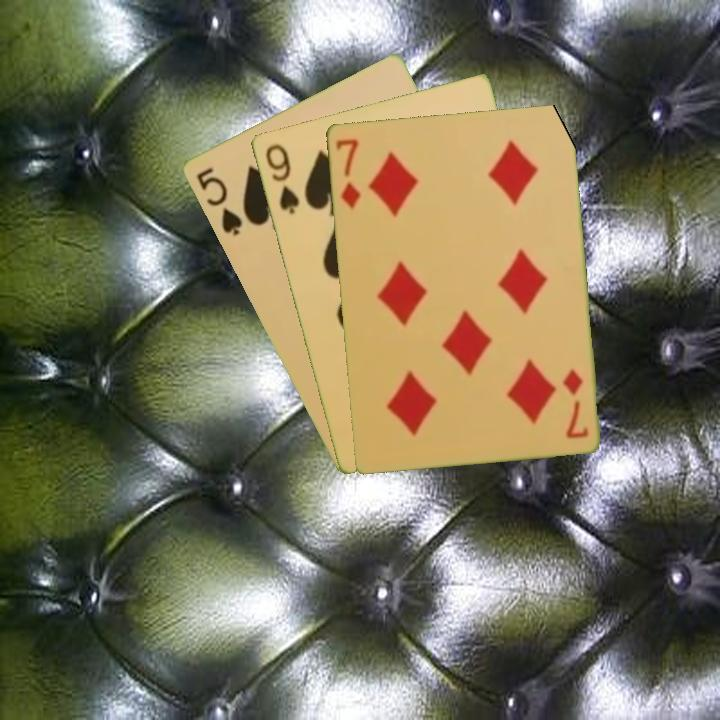5s: (192, 163, 245, 238)
7d: (559, 365, 591, 441), (332, 135, 363, 211)
9s: (261, 140, 302, 217)
